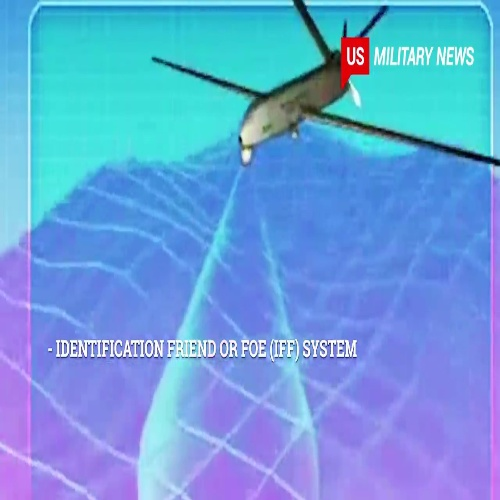uav: (152, 2, 500, 167)
